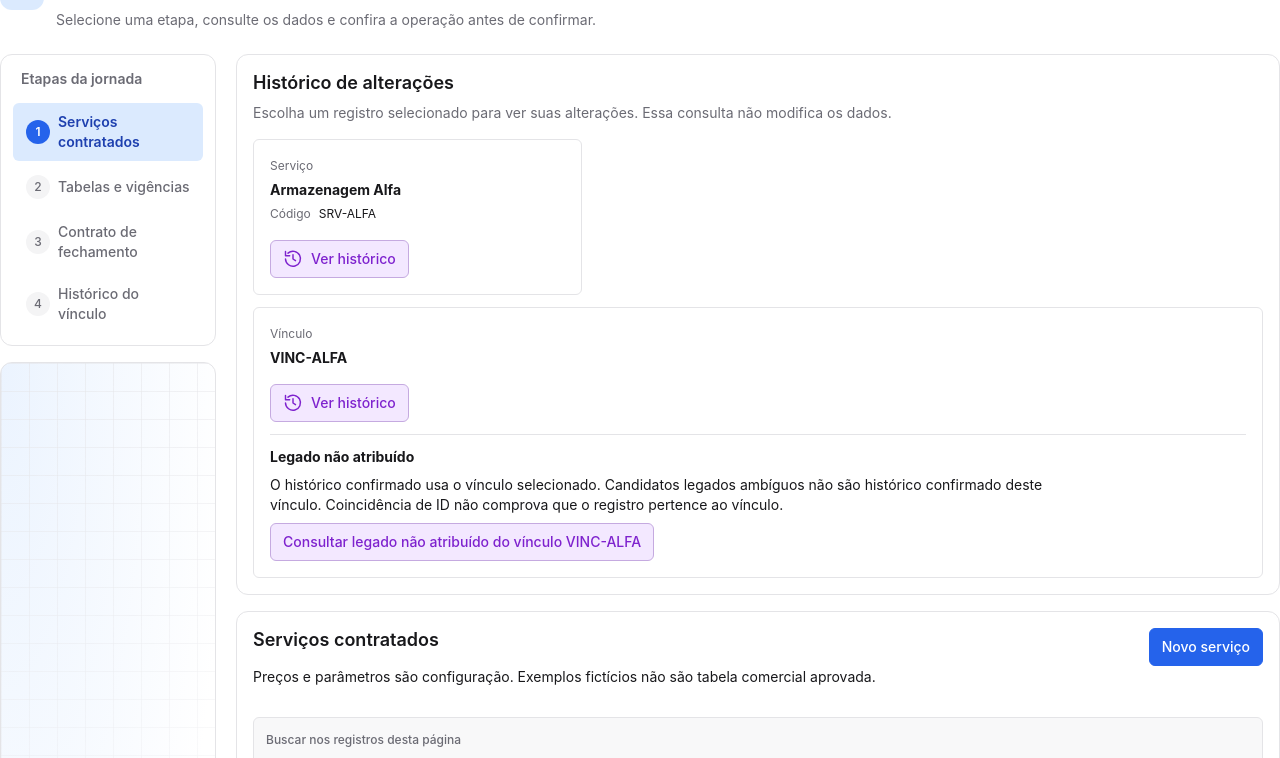
it: abre a consulta correta pelo cartão Ver histórico de Serviço: Armazenagem Alfa
The width and height of the screenshot is (1280, 758).
Expected: the button "Novo serviço" is shown, x1=1149 y1=628 x2=1263 y2=666
Click the button with aria-label "Ver histórico de Serviço: Armazenagem Alfa" at (339, 259), box x1=270 y1=240 x2=409 y2=278
(page scrolled)
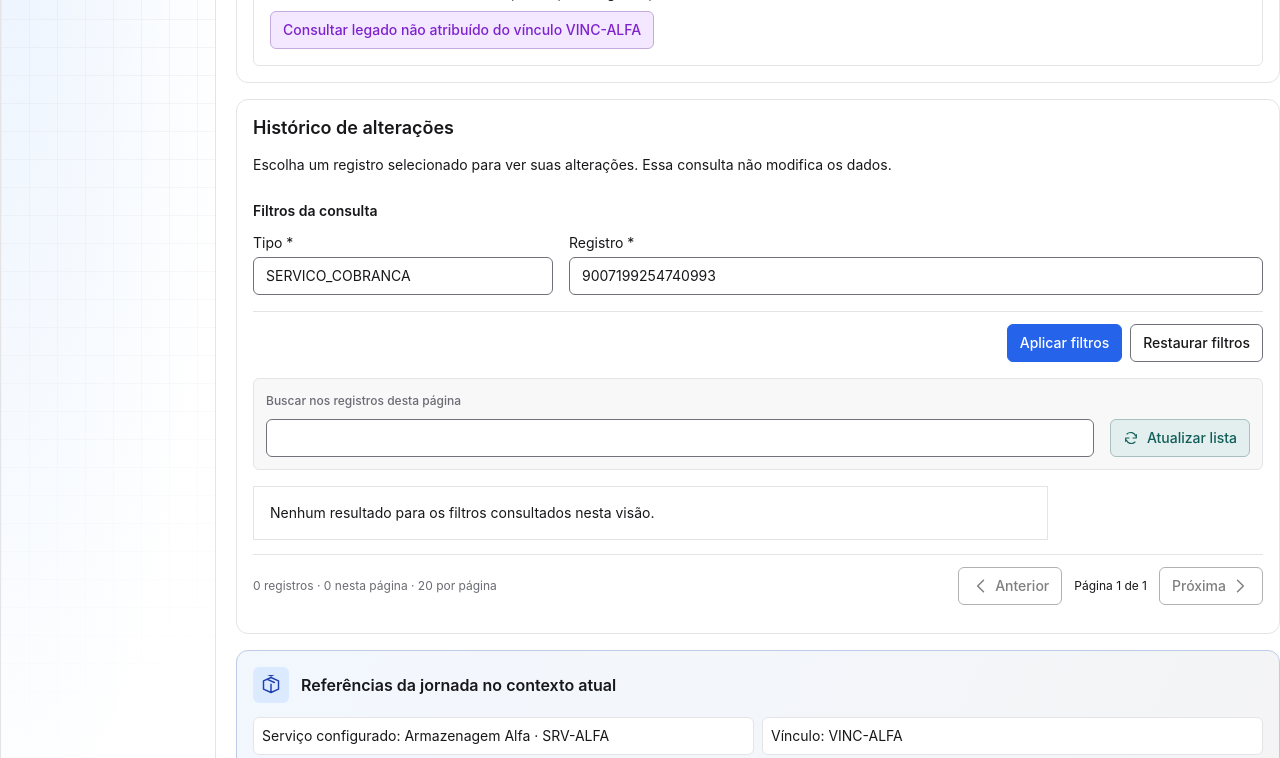
Expected: the field labelled "Tipo *" holds "SERVICO_COBRANCA", x1=253 y1=257 x2=553 y2=295
Expected: the element "Histórico de alterações" is shown, x1=236 y1=99 x2=1279 y2=634
